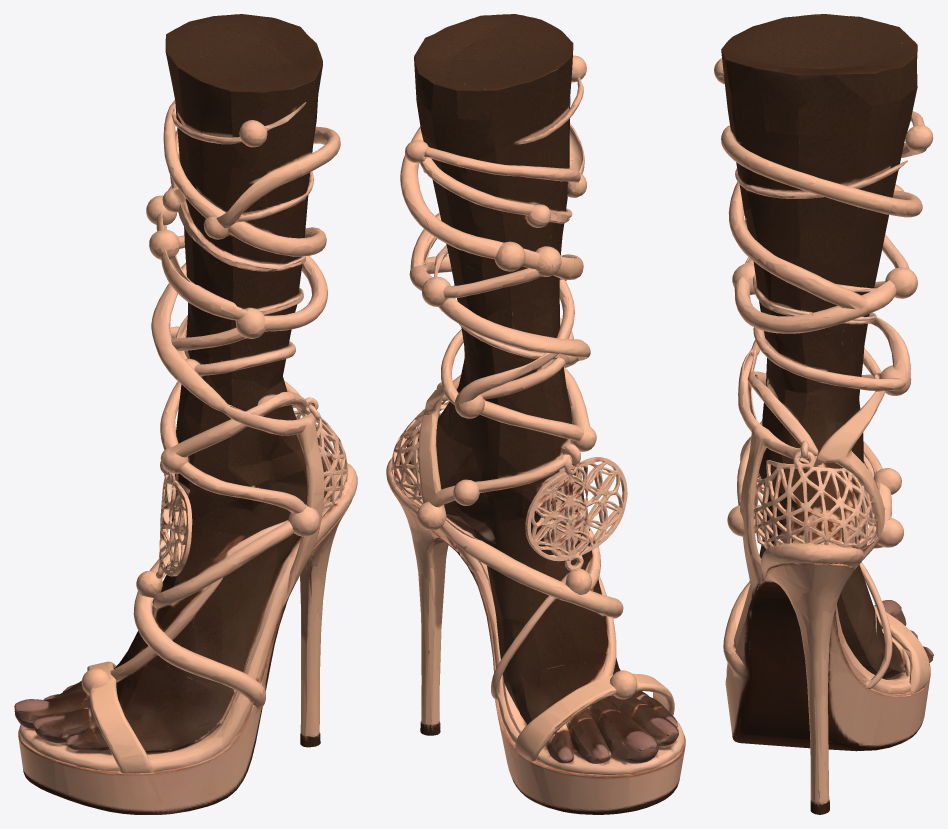
3 views of the same model, side by side, from view 1: azimuth 30°, elevation 25°; view 2: azimuth 150°, elevation 25°; view 3: azimuth 270°, elevation 25° (orthographic). The views are drawn at different scales.
Parts seen in each view (by area): view 1: Mesh_0; view 2: Mesh_0; view 3: Mesh_0.
Boxes of the visible parts, x1,y1,x2,y2 form: Mesh_0: (14, 14, 357, 814); Mesh_0: (386, 14, 685, 814); Mesh_0: (714, 14, 933, 814).
Size of the model in its own units: 0.8562 by 1.9 by 0.5149.
1 material, 1 textured.
